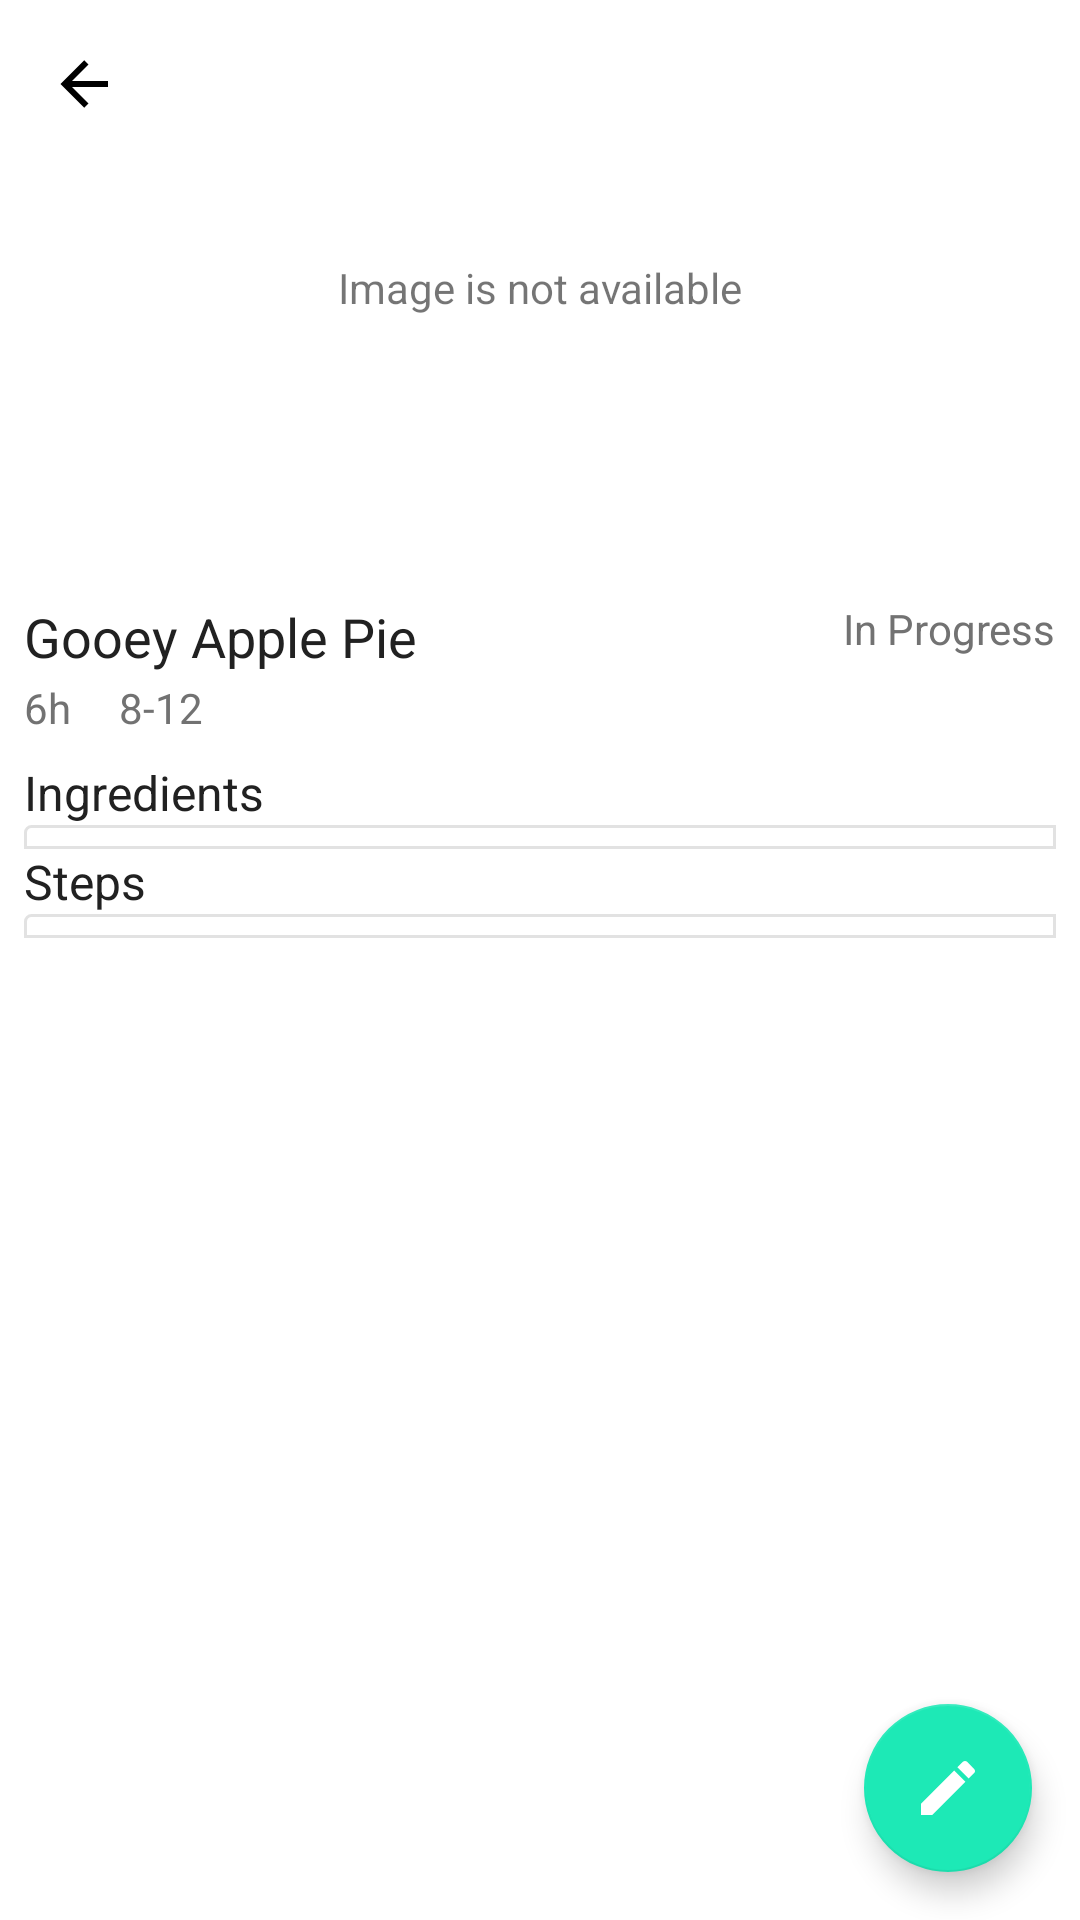

Point at icon controls on the screen. Image size 1080px×1920px, points as point (x, y).
edit: point (948, 1788)
